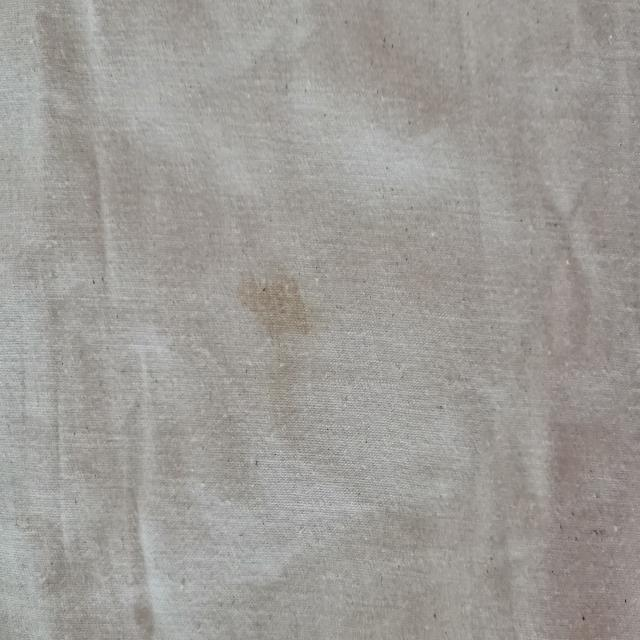taaaches: (234, 253, 316, 357)
